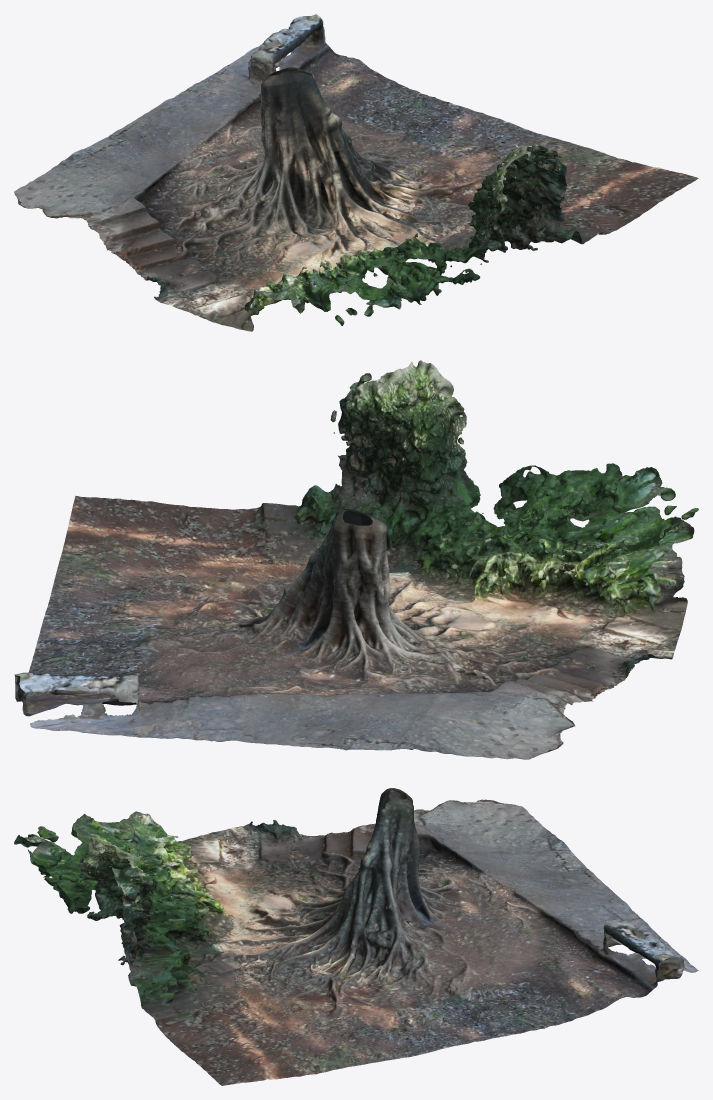
Rendered from sf-big-roots-4ecef3.glb.
3 renders of one model, top to bottom at view 1: azimuth 30°, elevation 25°; view 2: azimuth 150°, elevation 25°; view 3: azimuth 270°, elevation 25°, orthographic. The views are drawn at different scales.
Parts seen in each view (by area): view 1: Object_2; view 2: Object_2; view 3: Object_2.
Boxes of the visible parts, x1,y1,x2,y2 form: Object_2: [14, 14, 698, 331]; Object_2: [14, 360, 698, 759]; Object_2: [14, 788, 698, 1085].
Size of the model in its own units: 24.76 by 5.92 by 26.13.
1 material, 1 textured.
